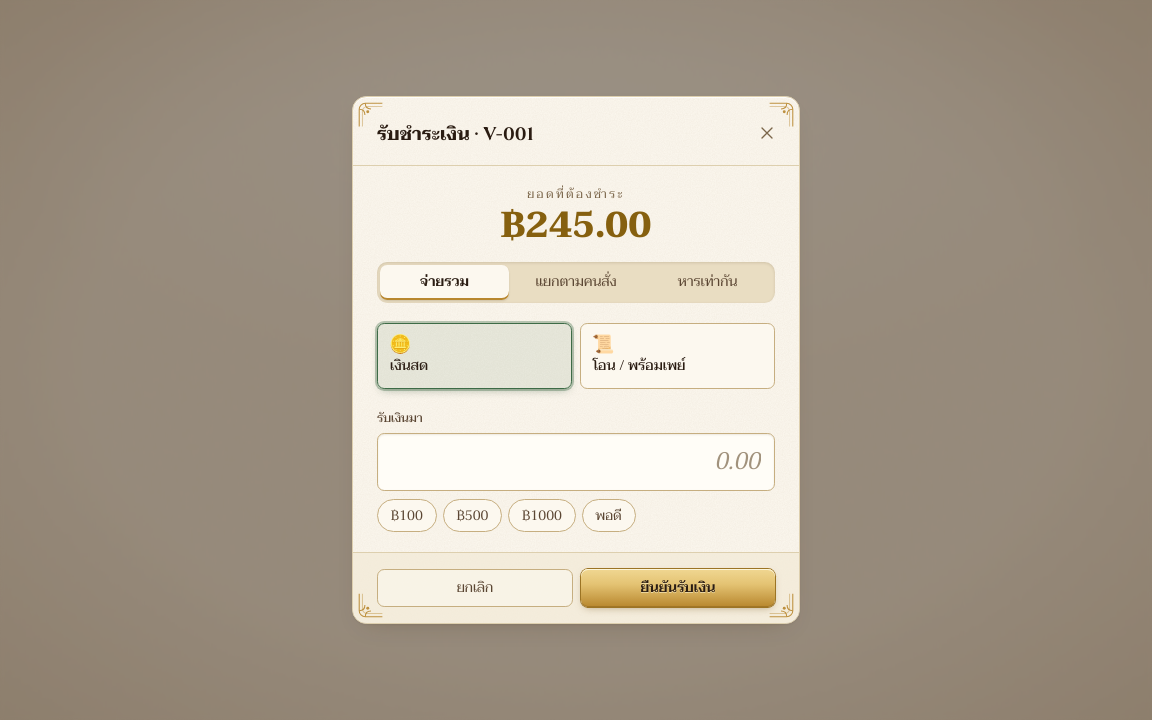
Scenario: หน้ารับชำระเงิน › รับเงินไม่พอ ยืนยันไม่ได้
The width and height of the screenshot is (1152, 720).
In the field with placeholder "0.00": (576, 462) 377,433 -> 775,491, type "100"
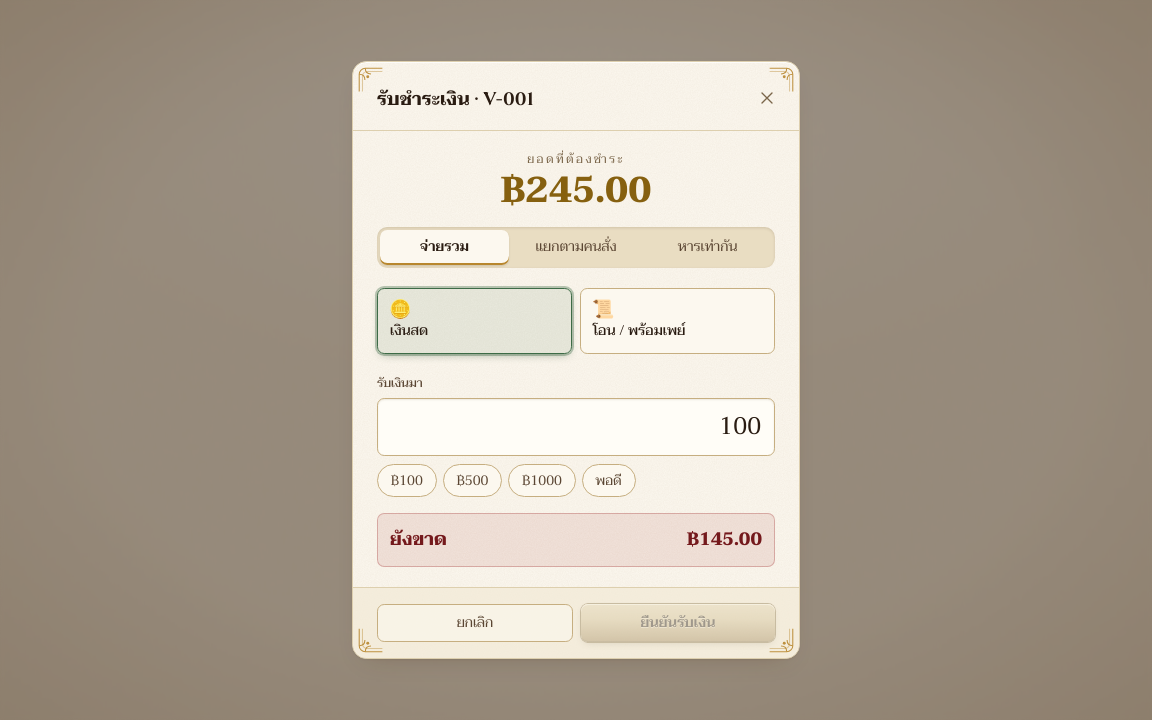
Expected: the text "ยังขาด" is shown, 390,526 -> 447,554
Expected: the text "฿145.00" is shown, 687,526 -> 762,554
Expected: the button "ยืนยันรับเงิน" is disabled, 581,604 -> 775,642
